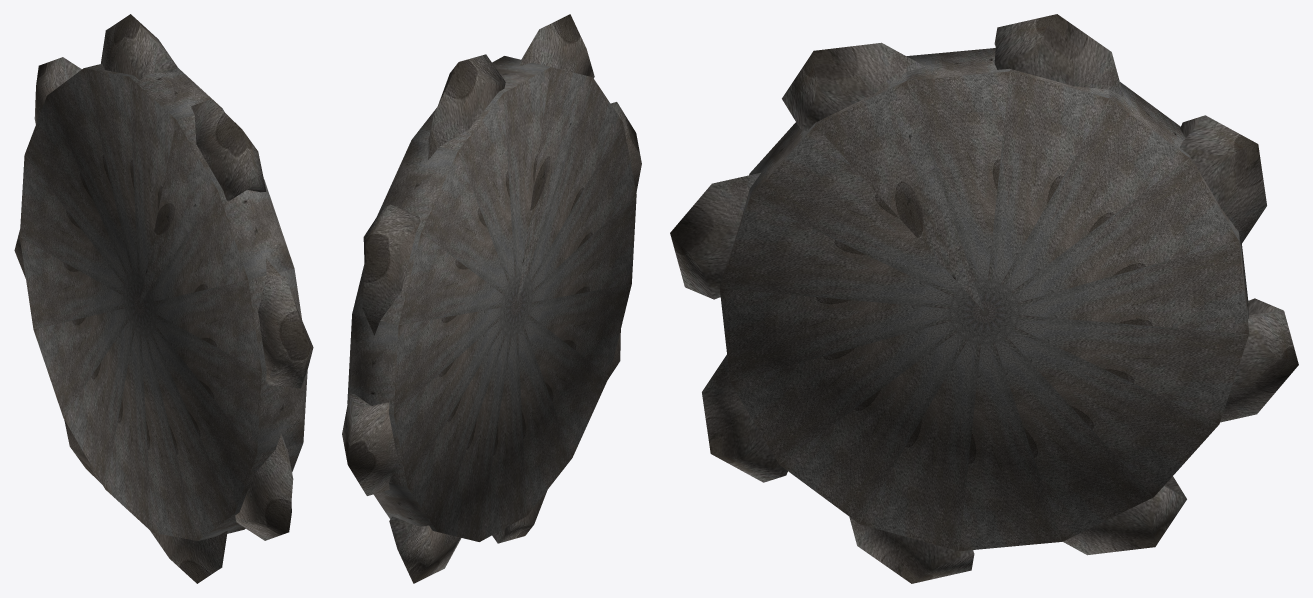
File: bucket_wheel.glb
3 views of the same model, side by side, from view 1: azimuth 30°, elevation 25°; view 2: azimuth 150°, elevation 25°; view 3: azimuth 270°, elevation 25° (orthographic). The views are drawn at different scales.
Parts seen in each view (by area): view 1: metal_rusted_circle.jpg__; view 2: metal_rusted_circle.jpg__; view 3: metal_rusted_circle.jpg__.
Boxes of the visible parts, x1=… form: metal_rusted_circle.jpg__: x1=14, y1=14, x2=313, y2=583; metal_rusted_circle.jpg__: x1=342, y1=14, x2=641, y2=583; metal_rusted_circle.jpg__: x1=670, y1=14, x2=1298, y2=583.
Size of the model in its own units: 1.33 by 13.43 by 13.43.
Materials: 1 (1 with a texture image).
